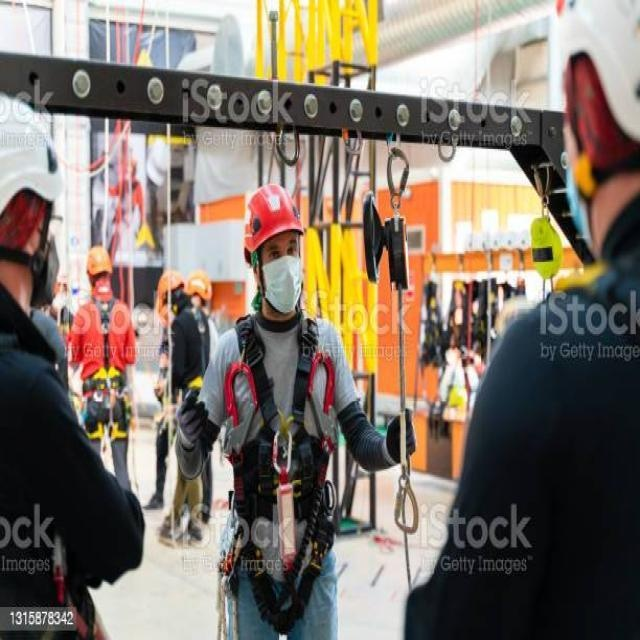Arnes_seguridad: (214, 302, 340, 617), (72, 289, 129, 445), (167, 299, 215, 411)
